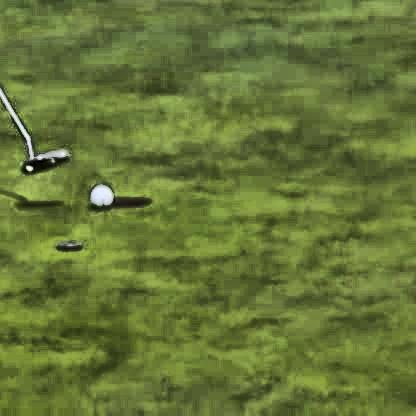golfball: (86, 186, 111, 208)
